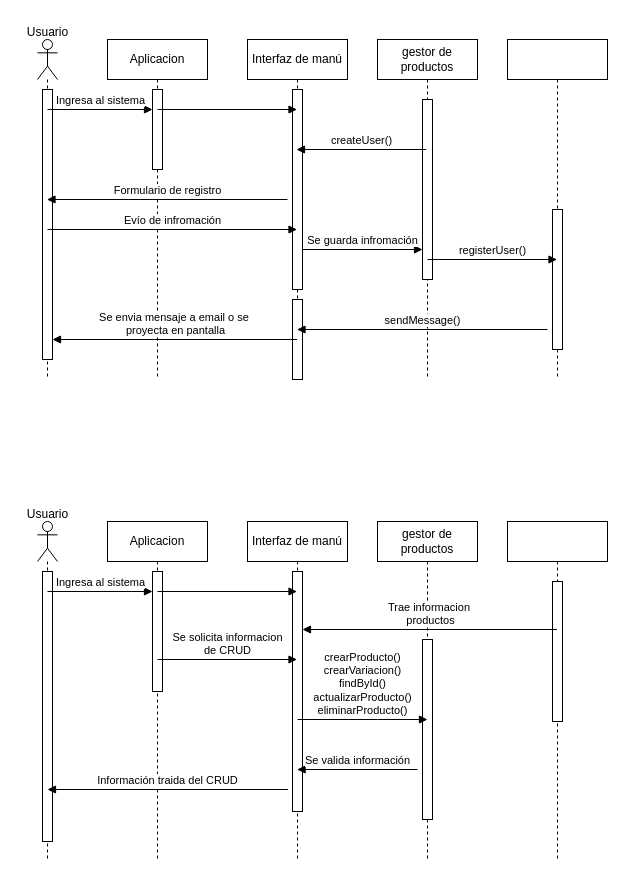
The diagram is 625 pixels wide and 879 high, and some of its shapes have lost their labels. Here are the shapes that lost their labels. From the top down, the centre of each, then its label:
the point at 557,209: gestor de notificaciones
the point at 557,691: API
